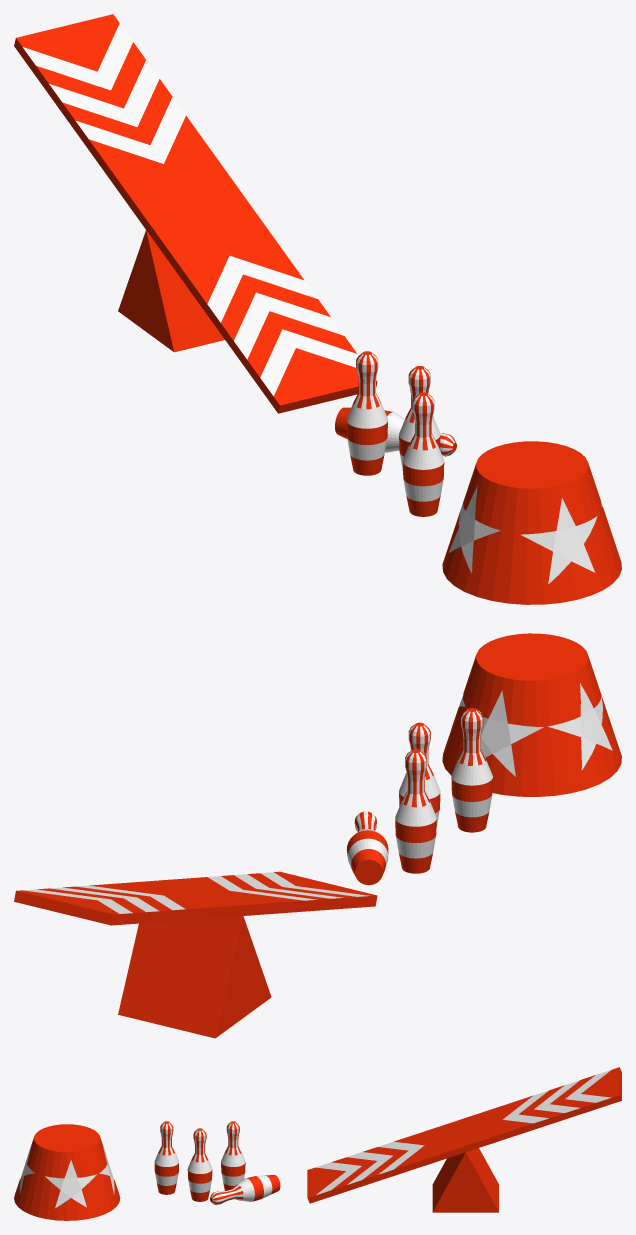
File: circus.fbx
3 views of the same model, one above another, from view 1: azimuth 30°, elevation 25°; view 2: azimuth 150°, elevation 25°; view 3: azimuth 270°, elevation 25° (orthographic). The views are drawn at different scales.
Visible parts, largest first — view 1: Cube, plinth, Cylinder.004; view 2: Cube, plinth, Cylinder.004; view 3: Cube, plinth, Cylinder.004.
Part boxes in pixels (box(x1,y1,x2,y2)): Cube: box(14, 14, 377, 413); plinth: box(442, 441, 621, 604); Cylinder.004: box(335, 351, 456, 516); Cube: box(14, 871, 377, 1038); plinth: box(442, 633, 621, 796); Cylinder.004: box(346, 708, 492, 885); Cube: box(307, 1067, 621, 1212); plinth: box(14, 1124, 120, 1220); Cylinder.004: box(154, 1121, 280, 1205).
Bounding box in the file's own units: 320 × 390 × 1830.
